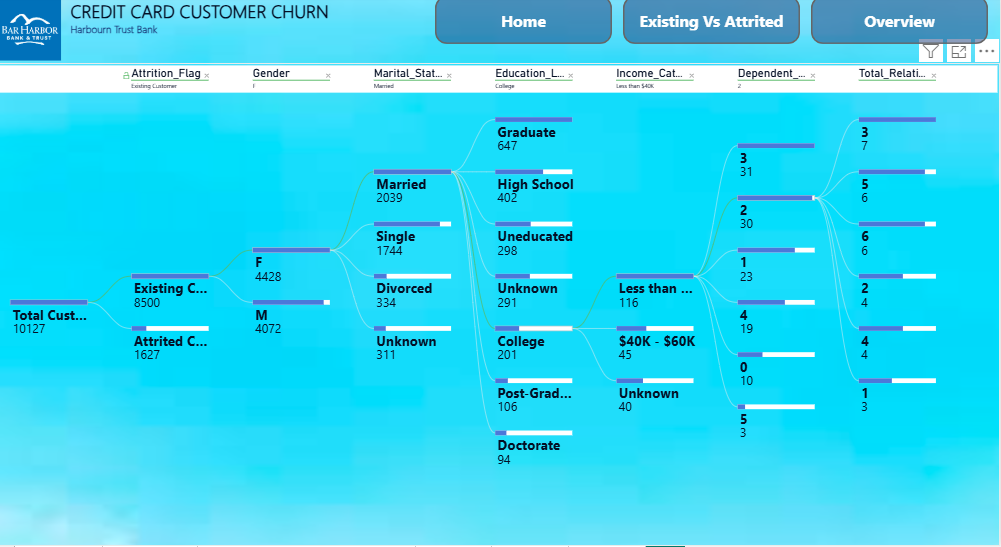

The dashboard page shown, as its layout file describes it:
{"tool":"powerbi","page":{"name":"Page 3","canvas":[2100,1150],"ordinal":5},"visuals":[{"type":"image","box":[0,0,141.8,140.4],"z":0},{"type":"textbox","box":[150.6,0,812.6,176.1],"z":1000},{"type":"decompositionTreeVisual","fields":{"Analyze":["Measure Table.Total Customers"],"ExplainBy":["BankChurners.Attrition_Flag","BankChurners.Gender","BankChurners.Marital_Status","BankChurners.Education_Level","BankChurners.Income_Category","BankChurners.Dependent_count","BankChurners.Total_Relationship_Count"]},"box":[0,140.1,2099.3,1009.9],"z":2000},{"type":"actionButton","box":[1311,0,370.1,100.4],"z":3000},{"type":"actionButton","box":[917.9,0,370.1,100.4],"z":4000},{"type":"actionButton","box":[1704.1,0,370.1,100.4],"z":5000}]}

Visuals, with their boxes in screenshot pixels (x1, y1, x2, y2), scaled from the page's 2100x1150 canvas onto the 1001x547 screenshot:
image: pyautogui.locateOnScreen(0, 0, 68, 67)
textbox: pyautogui.locateOnScreen(72, 0, 459, 84)
decompositionTreeVisual - Measure Table.Total Customers x BankChurners.Attrition_Flag: pyautogui.locateOnScreen(0, 67, 1000, 546)
actionButton: pyautogui.locateOnScreen(625, 0, 801, 48)
actionButton: pyautogui.locateOnScreen(438, 0, 614, 48)
actionButton: pyautogui.locateOnScreen(812, 0, 989, 48)
